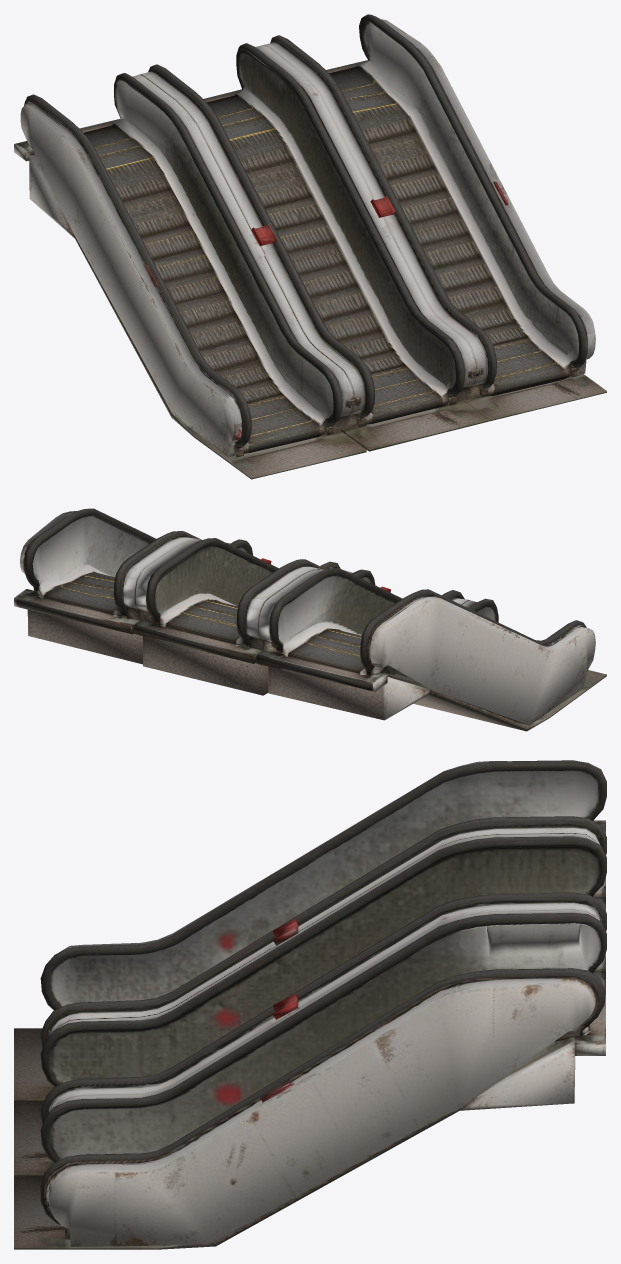
The model's file is escalator-OPEN-+3d+model.glb.
The picture shows the model from 3 angles, top to bottom: view 1: azimuth 30°, elevation 25°; view 2: azimuth 150°, elevation 25°; view 3: azimuth 270°, elevation 25°; orthographic projection. The views are drawn at different scales.
Visible parts, largest first — view 1: tripo_node_cf03b6f7-866e-41c7-b972-c92d30dd315d; view 2: tripo_node_cf03b6f7-866e-41c7-b972-c92d30dd315d; view 3: tripo_node_cf03b6f7-866e-41c7-b972-c92d30dd315d.
Part boxes in pixels (x1=…): tripo_node_cf03b6f7-866e-41c7-b972-c92d30dd315d: x1=14, y1=14, x2=606, y2=479; tripo_node_cf03b6f7-866e-41c7-b972-c92d30dd315d: x1=14, y1=508, x2=606, y2=731; tripo_node_cf03b6f7-866e-41c7-b972-c92d30dd315d: x1=14, y1=760, x2=606, y2=1249.
Size of the model in its own units: 0.8926 by 0.5137 by 0.998.
Materials: 1 (1 with a texture image).
